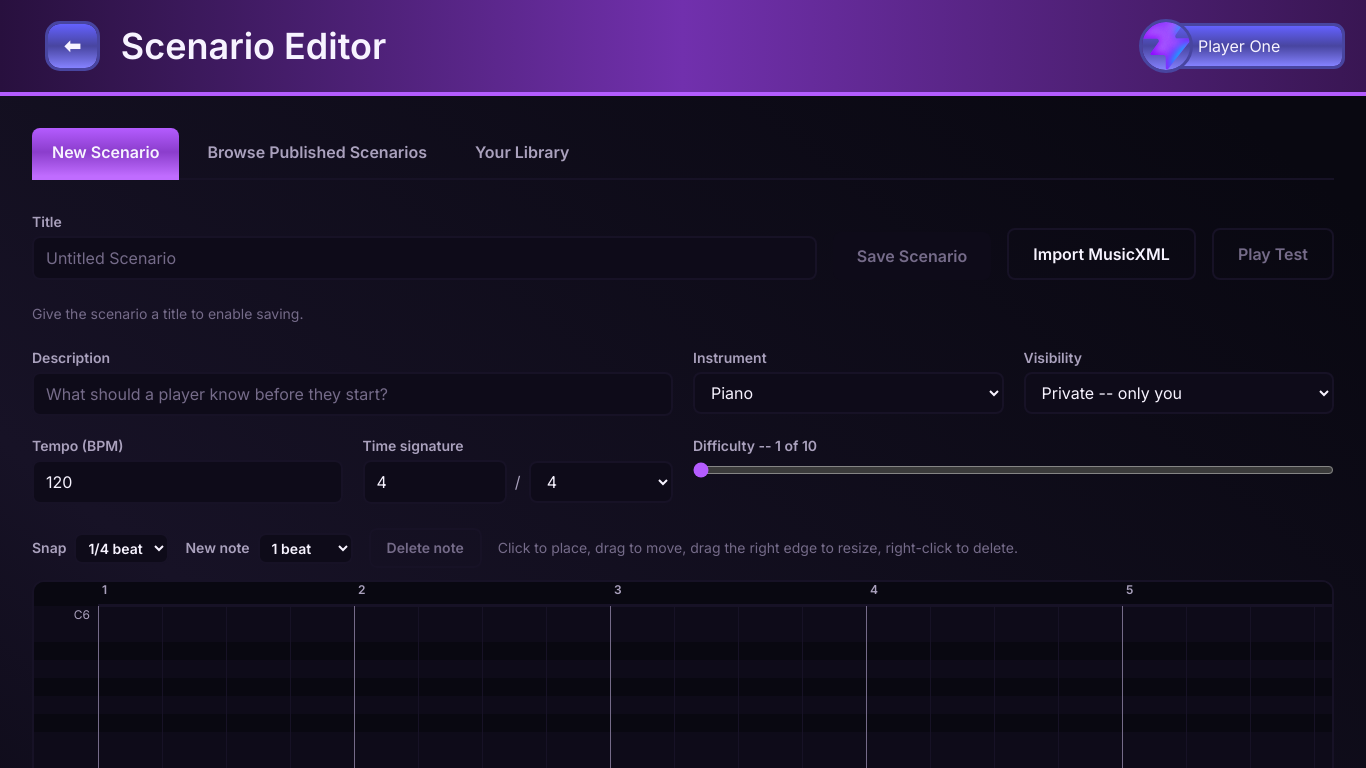
Test: editor tabs › shows the selected tab panel and deselects the previous tab
Step 1. Click the tab "Browse Published Scenarios" → (317, 154), box [187,128,447,180]
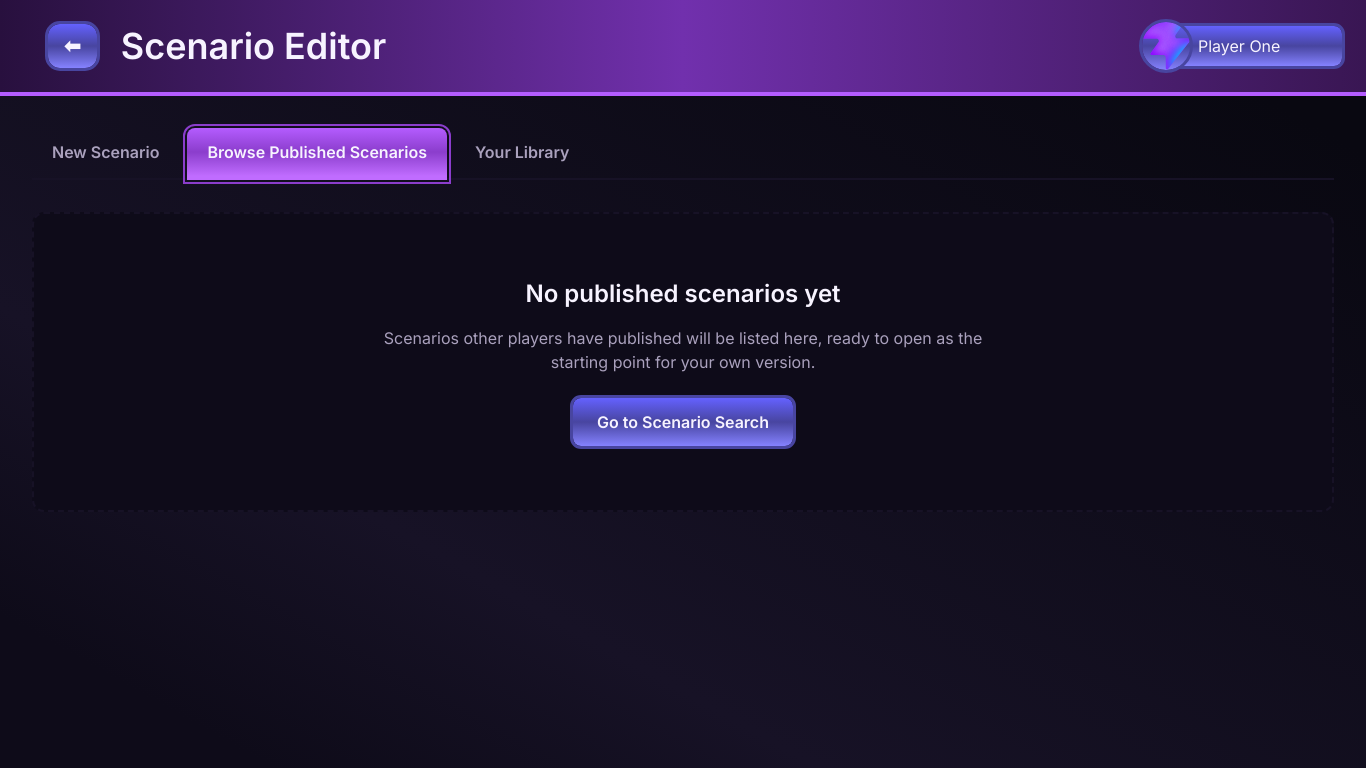
Now the heading "No published scenarios yet" is shown, box [525,278,841,310]
Now the label labelled "Title" is gone
Step 2. Click the tab "Your Library" → (522, 154), box [455,128,589,180]
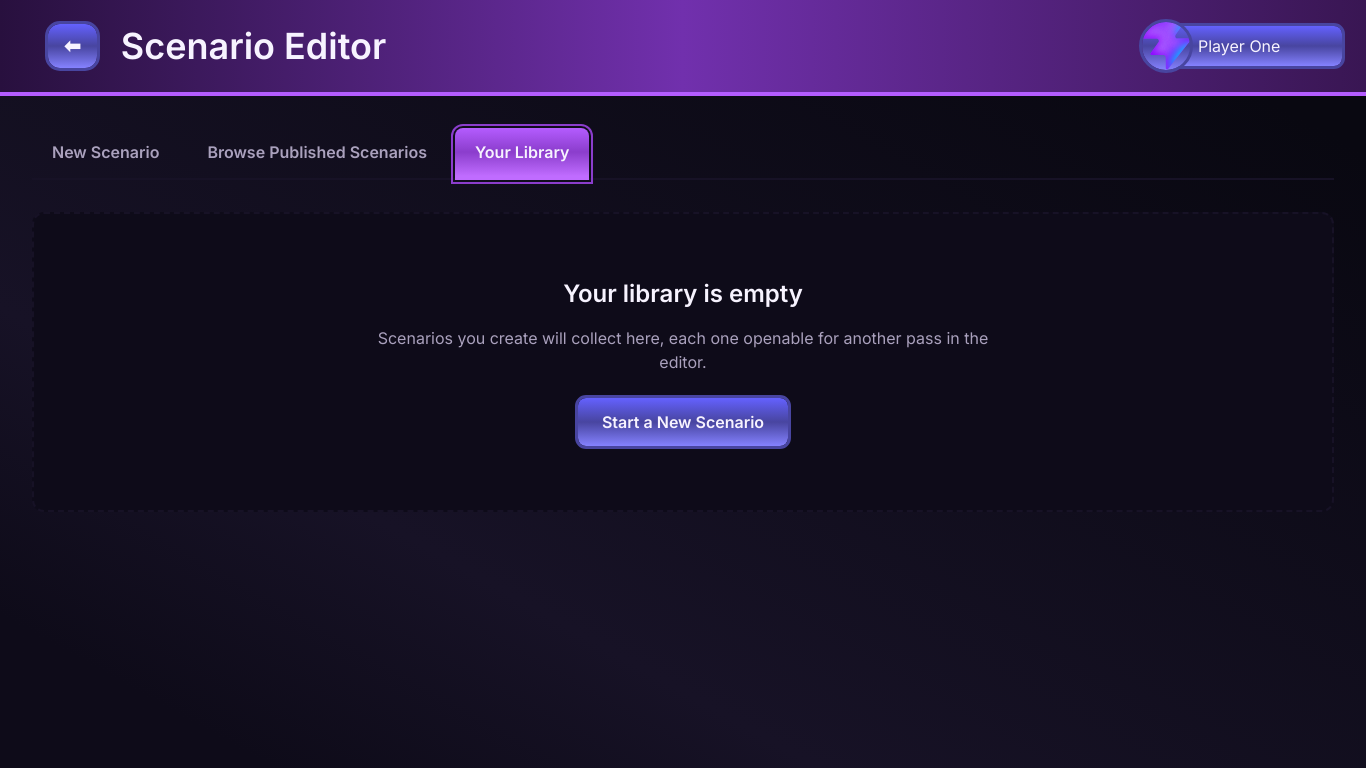
Now the heading "Your library is empty" is shown, box [563,278,803,310]
